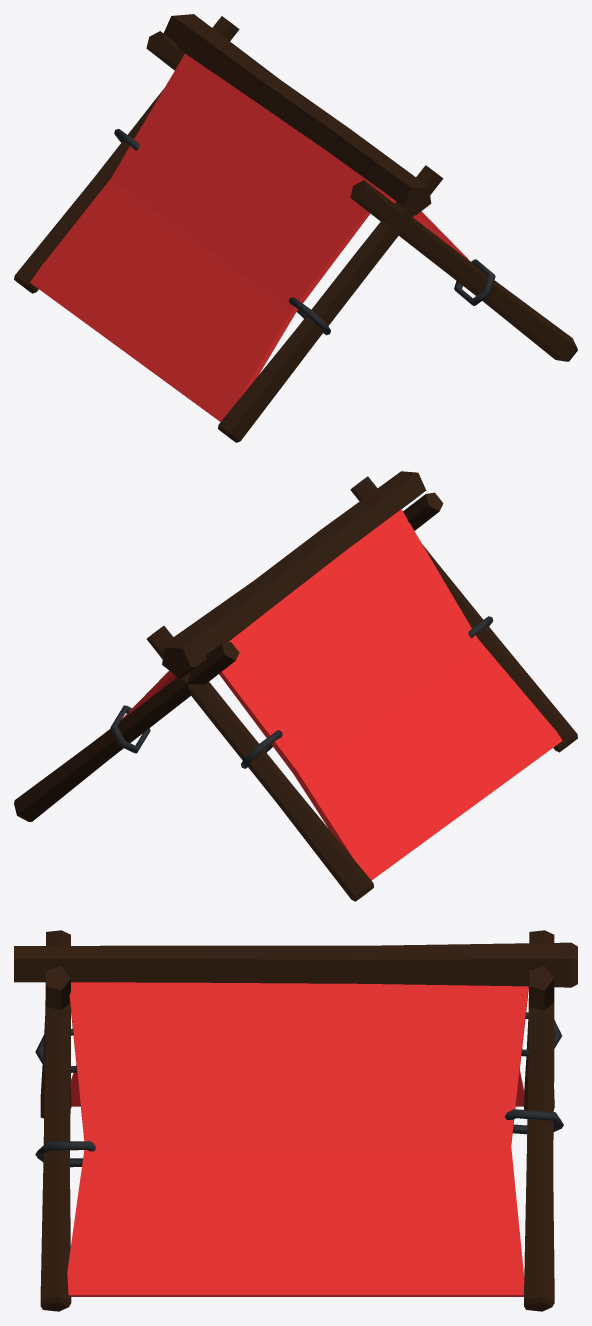
The model's file is tent.FBX.
The picture shows the model from 3 angles, top to bottom: view 1: azimuth 30°, elevation 25°; view 2: azimuth 150°, elevation 25°; view 3: azimuth 270°, elevation 25°; orthographic projection. The views are drawn at different scales.
Visible parts, largest first — view 1: tent; view 2: tent; view 3: tent.
Part boxes in pixels (x1,y1,x2,y2): tent: (14,14,577,442); tent: (14,471,577,901); tent: (14,930,577,1311).
Bounding box in the file's own units: 14.5 × 8.87 × 16.77.
